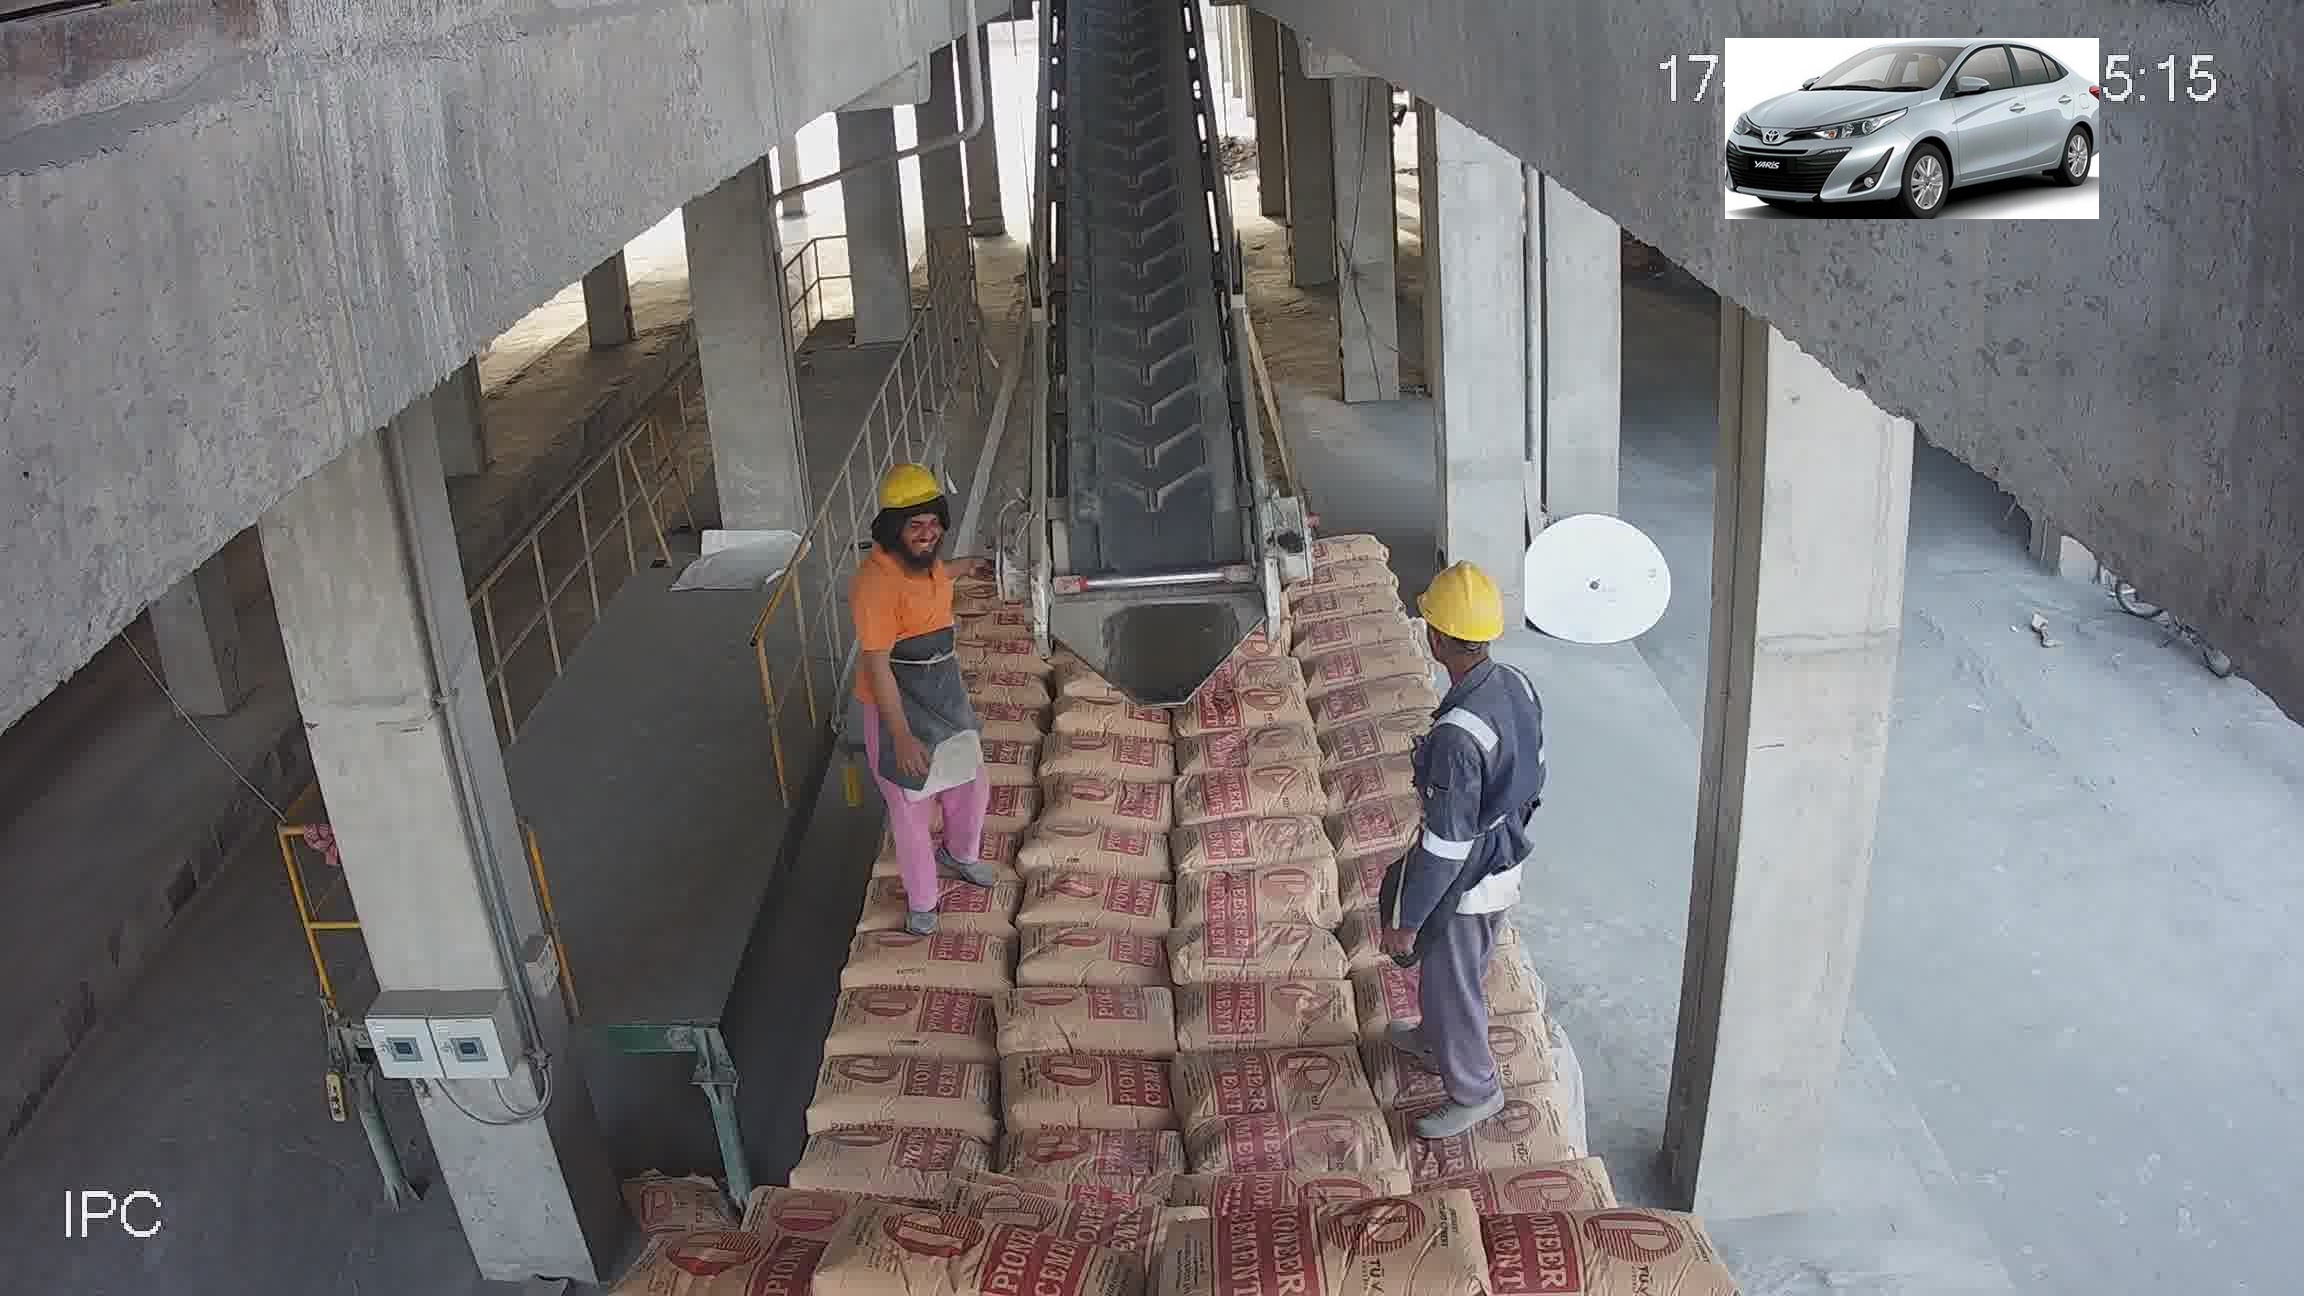bag_h: (1195, 1204, 1508, 1296), (805, 1218, 1120, 1294), (1442, 1211, 1701, 1291), (1389, 1084, 1582, 1184), (802, 1055, 1013, 1138), (1000, 1051, 1190, 1135), (1188, 1044, 1366, 1131), (1203, 1109, 1396, 1188), (1173, 978, 1366, 1054), (1000, 986, 1187, 1062), (829, 978, 1006, 1057), (845, 911, 1021, 987), (788, 1127, 1000, 1188), (639, 1230, 839, 1294), (999, 1119, 1188, 1185), (1176, 924, 1353, 991), (1431, 1161, 1611, 1226), (839, 927, 1014, 994), (1022, 813, 1173, 886), (1180, 862, 1332, 932), (1184, 756, 1334, 824), (1177, 812, 1331, 878), (1021, 873, 1179, 932), (1014, 934, 1176, 991), (1044, 772, 1184, 836), (1177, 684, 1321, 734), (1301, 628, 1413, 685), (1185, 725, 1317, 772), (1049, 739, 1177, 786), (1296, 604, 1397, 658), (1320, 673, 1431, 722), (1052, 701, 1161, 747), (1290, 581, 1400, 625), (1294, 555, 1404, 595), (1301, 525, 1399, 565)
belt: (1029, 47, 1268, 620)
